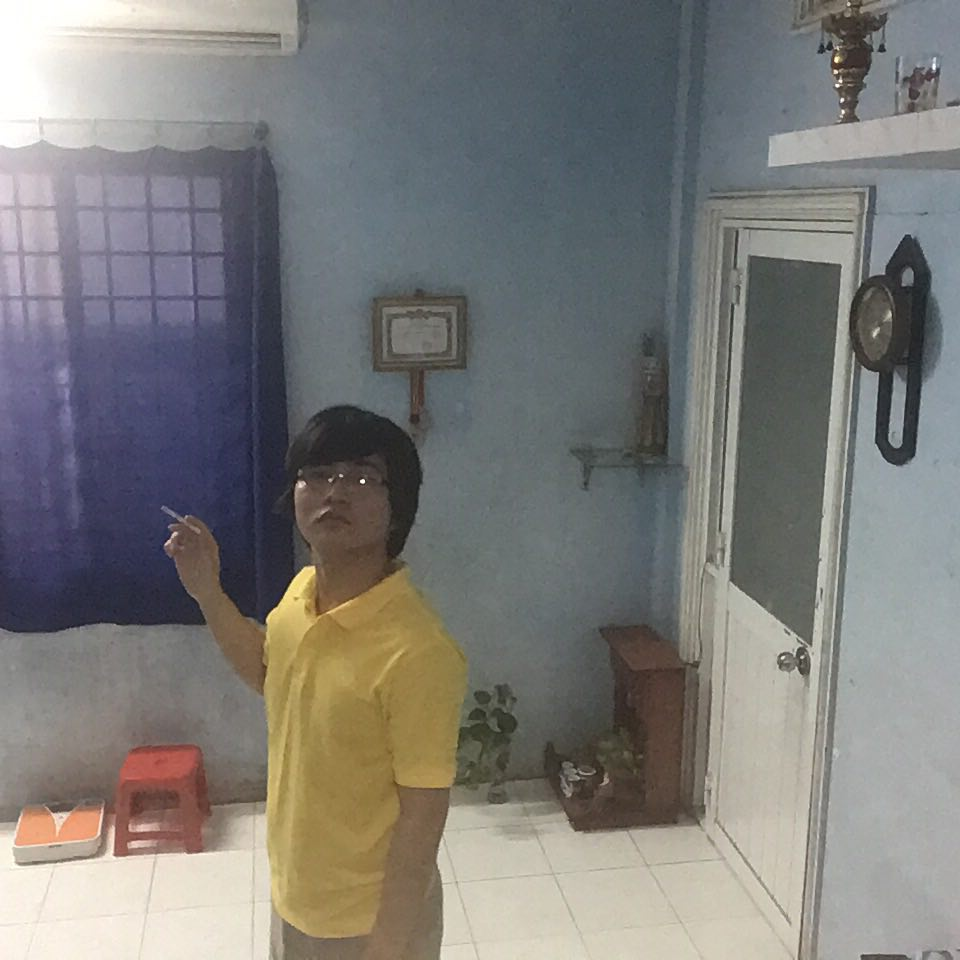cigarette: (157, 502, 187, 522)
person: (161, 398, 473, 960)
